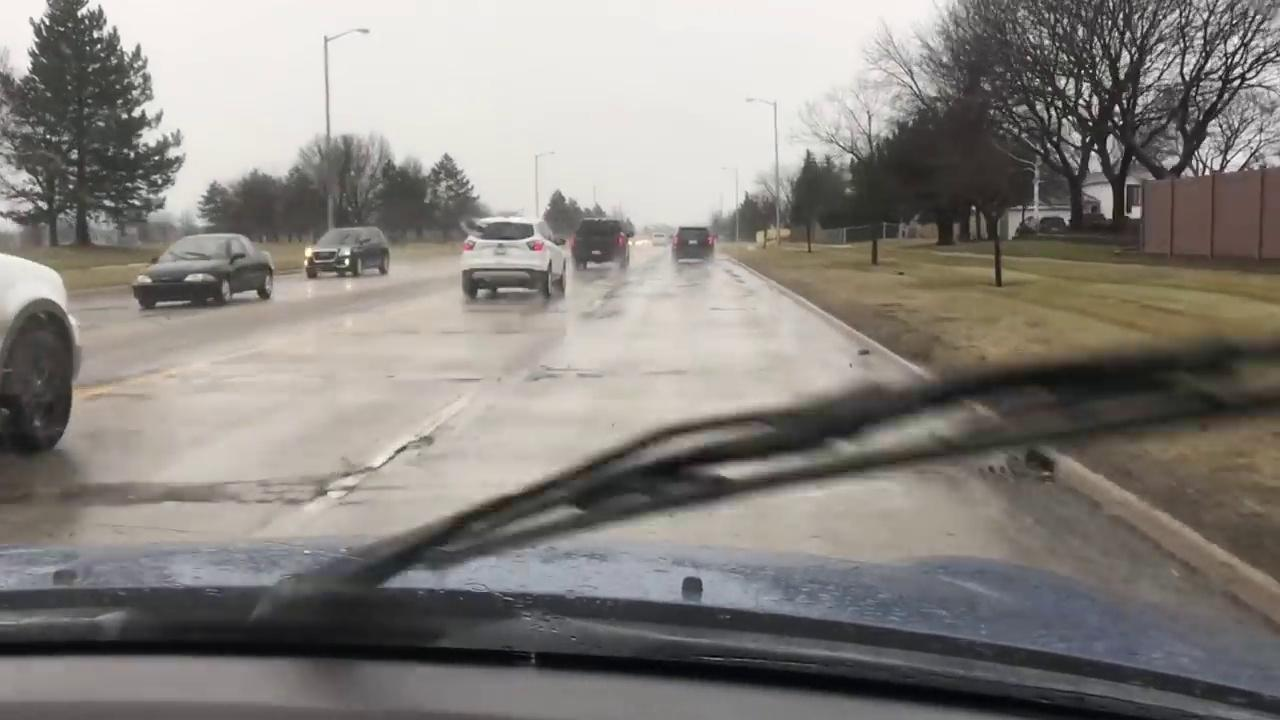pothole: (1024, 448, 1055, 478), (325, 478, 359, 499), (858, 348, 870, 355)
